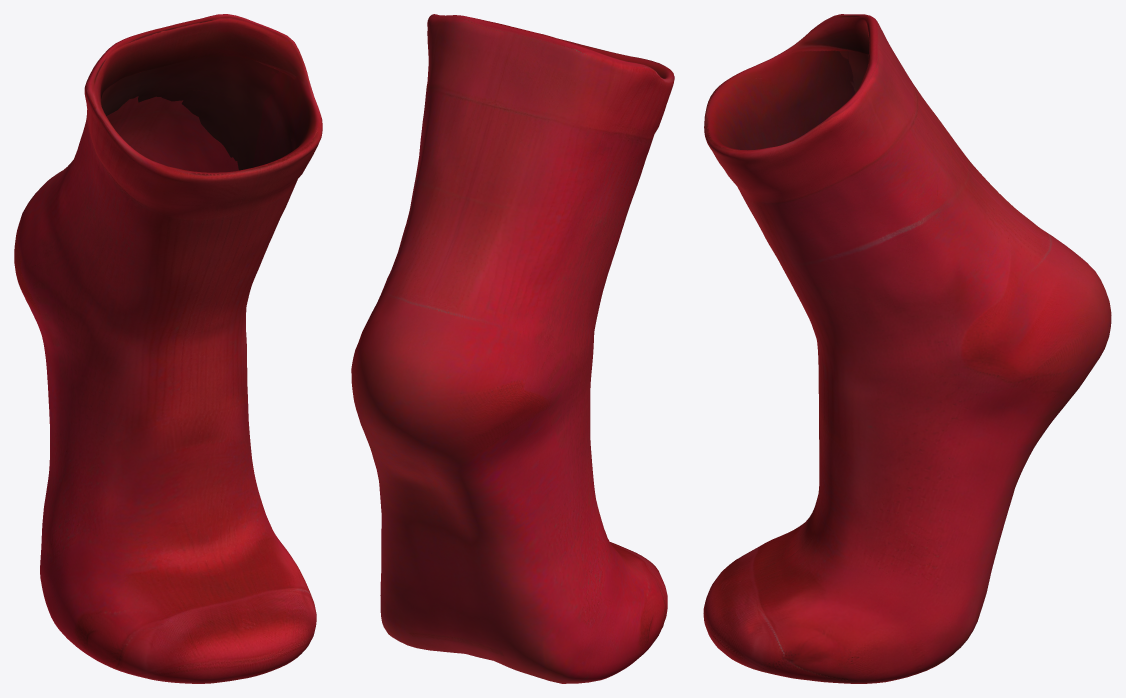
The model's file is redsocks.glb.
3 views of the same model, side by side, from view 1: azimuth 30°, elevation 25°; view 2: azimuth 150°, elevation 25°; view 3: azimuth 270°, elevation 25° (orthographic). The views are drawn at different scales.
Bounding box in the file's own units: 0.7453 × 2 × 1.23.
1 material, 1 textured.
